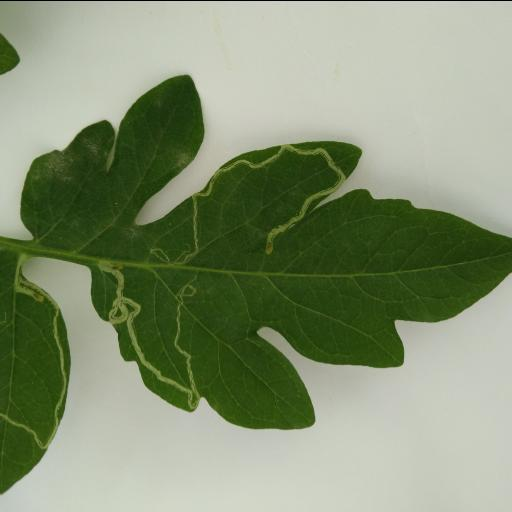disease_tomato: (22, 69, 512, 427)
